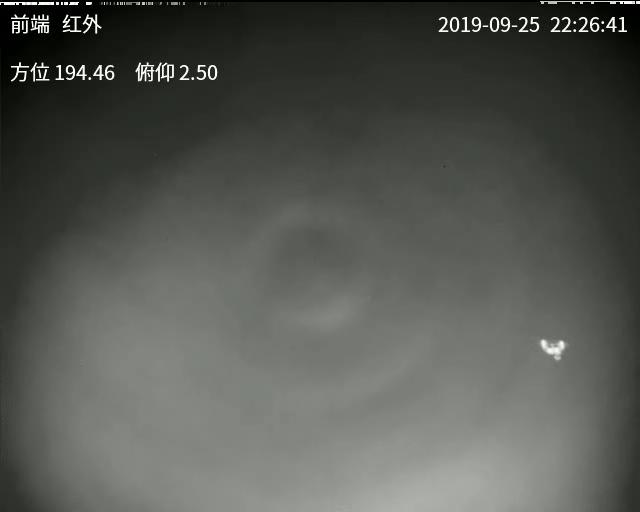uav: (539, 331, 567, 365)
